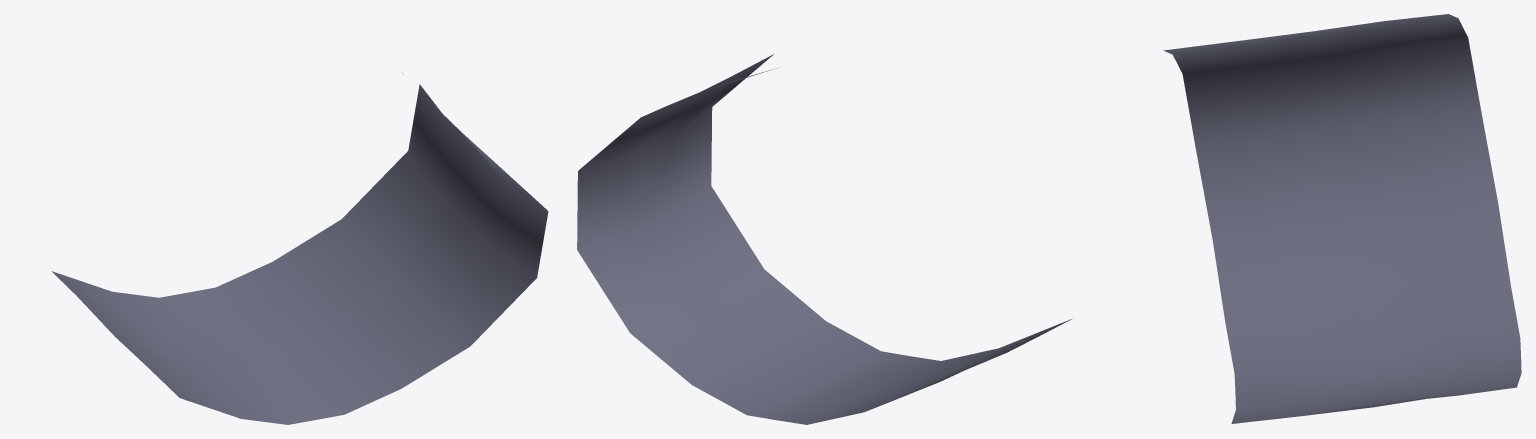
Rendered from Arctic_Luge_Tunnel_Left_Mid_C.glb.
3 renders of one model, left to right at view 1: azimuth 30°, elevation 25°; view 2: azimuth 150°, elevation 25°; view 3: azimuth 270°, elevation 25°, orthographic. The views are drawn at different scales.
Parts seen in each view (by area): view 1: Arctic_Luge_Tunnel_Left_Mid_C; view 2: Arctic_Luge_Tunnel_Left_Mid_C; view 3: Arctic_Luge_Tunnel_Left_Mid_C.
Boxes of the visible parts, <box> form: Arctic_Luge_Tunnel_Left_Mid_C: <box>51,73,548,424</box>; Arctic_Luge_Tunnel_Left_Mid_C: <box>577,54,1071,424</box>; Arctic_Luge_Tunnel_Left_Mid_C: <box>1163,14,1521,423</box>.
Size of the model in its own units: 4.44 by 3.49 by 3.13.
